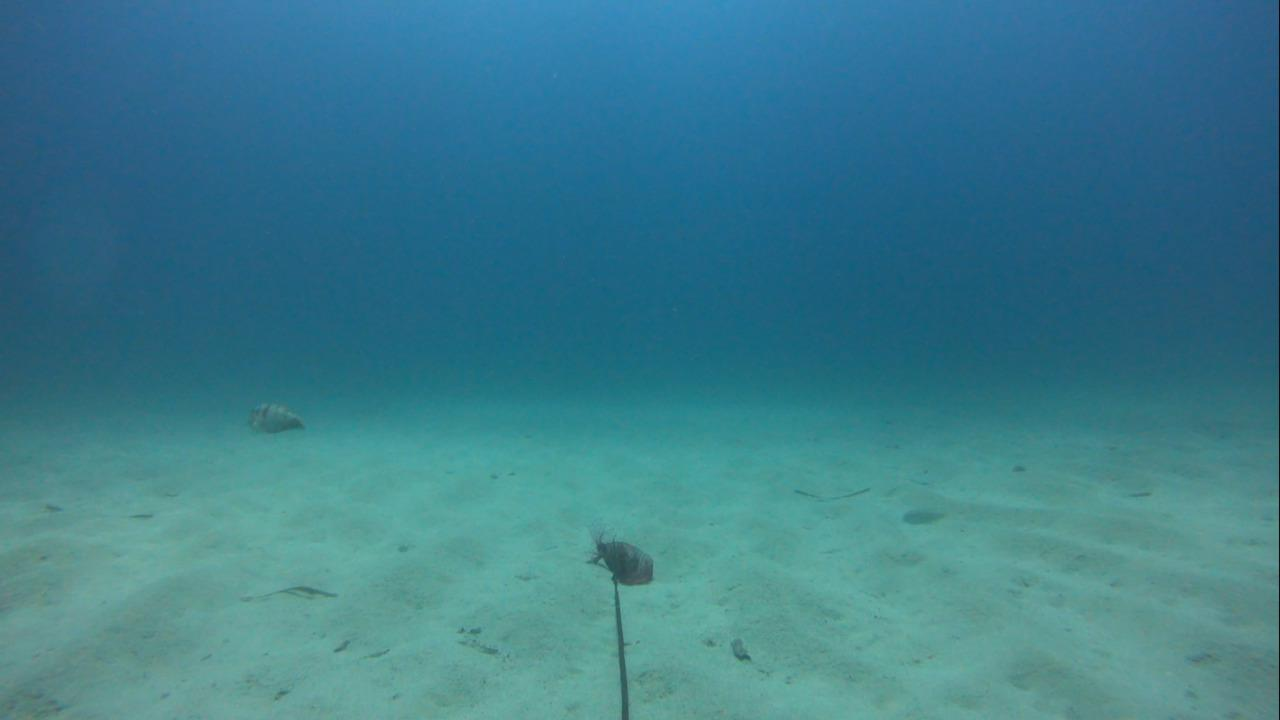raor: (239, 398, 306, 433)
